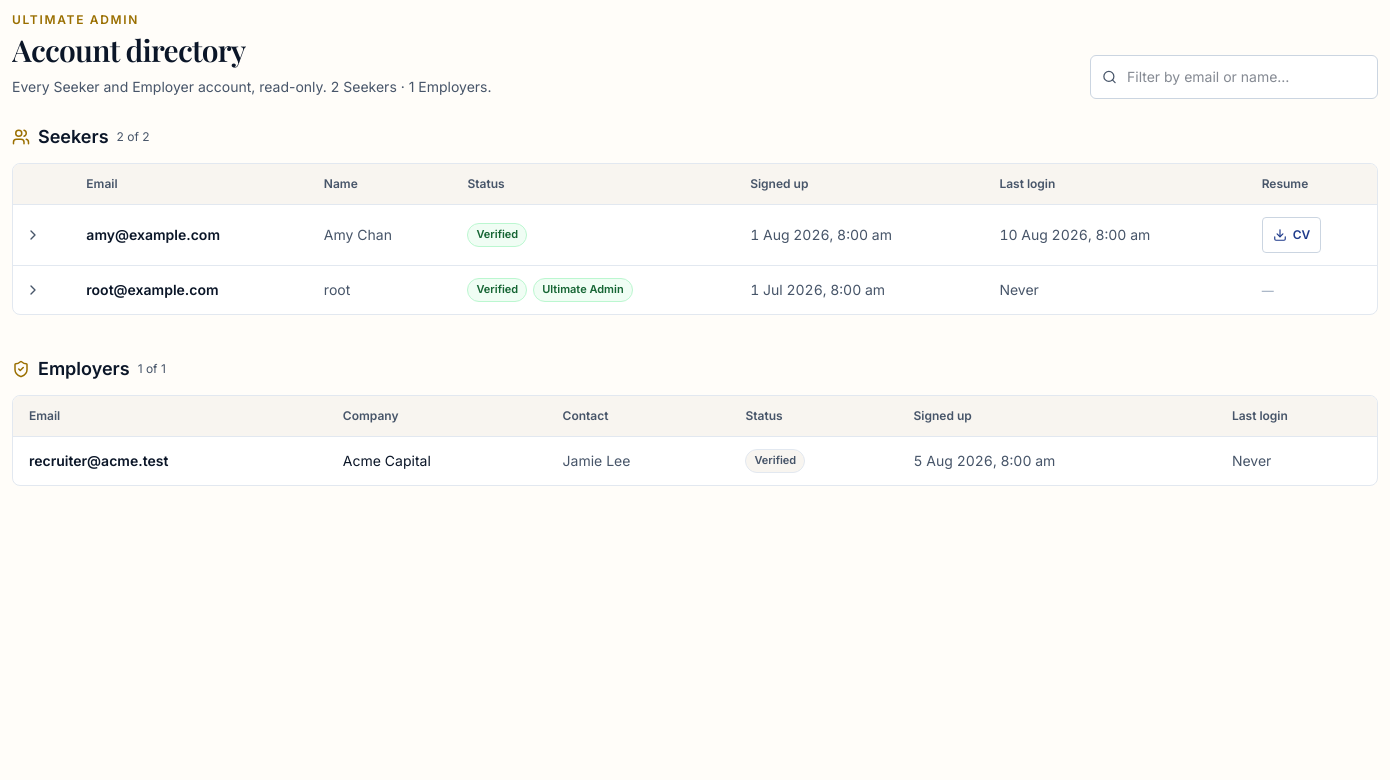
Test: AccountsDirectory › shows a plain message when a Seeker has no interest signal on file
Click the button named "Show interests for amy@example.com". click: (33,235)
box: [21,223,45,247]
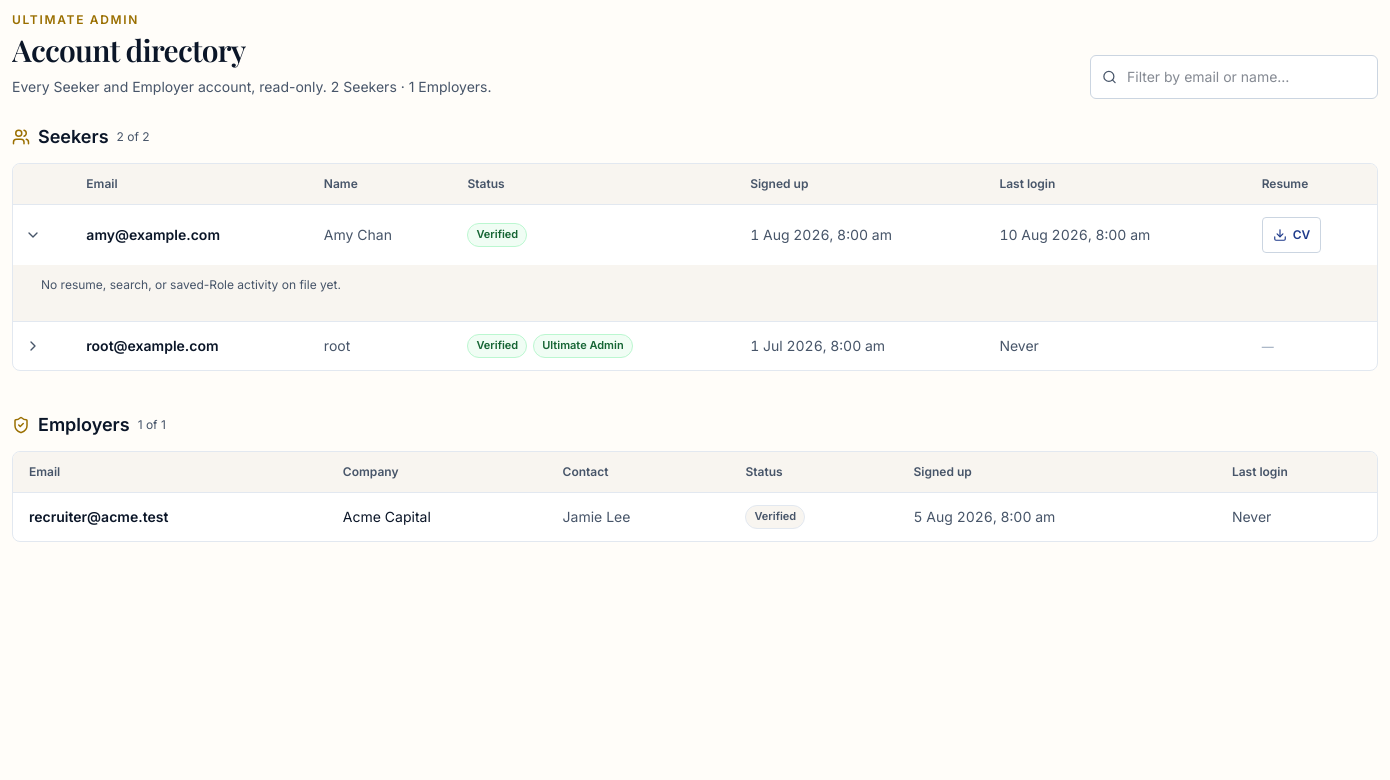
Now the text "No resume, search, or saved-Role activity on file yet." is shown, box [41,277,341,292]
